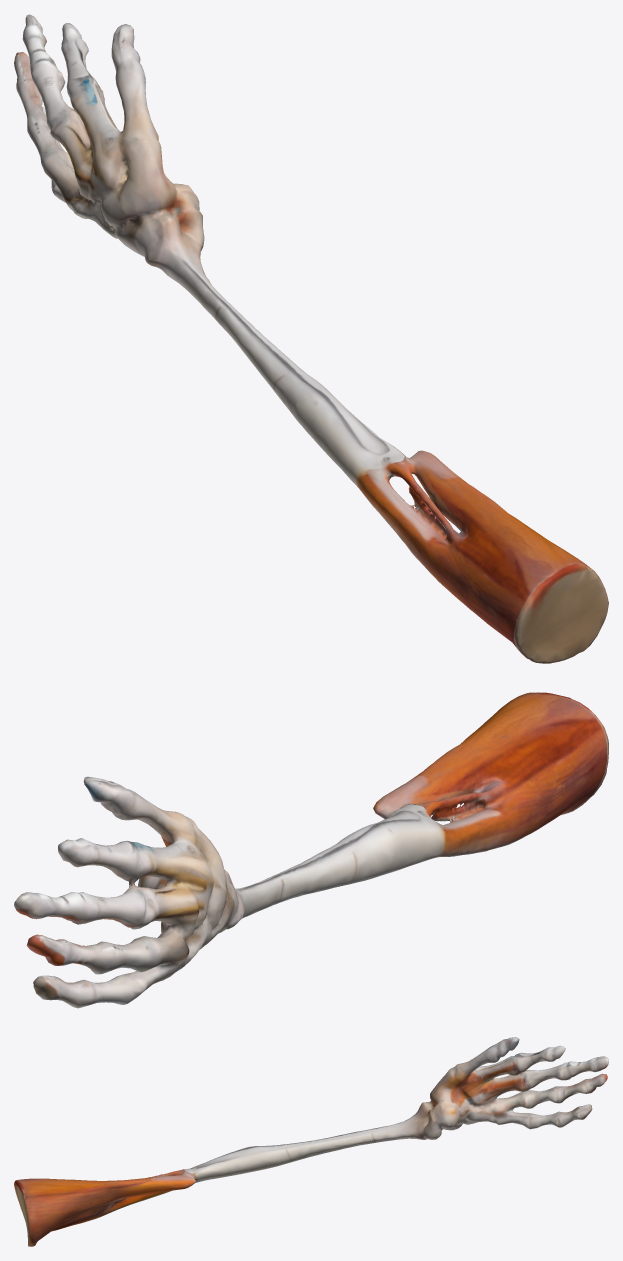
Rendered from Meshy_AI_Anatomy_of_the_Hand_a_0312165313_texture.glb.
3 views of the same model, one above another, from view 1: azimuth 30°, elevation 25°; view 2: azimuth 150°, elevation 25°; view 3: azimuth 270°, elevation 25° (orthographic). The views are drawn at different scales.
Size of the model in its own units: 0.3257 by 0.7381 by 2.
Materials: 1 (1 with a texture image).
